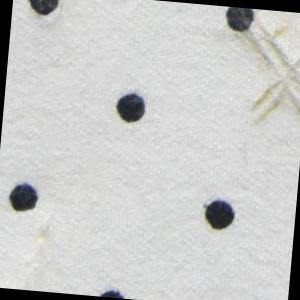Oil Stain: (225, 8, 300, 138)
